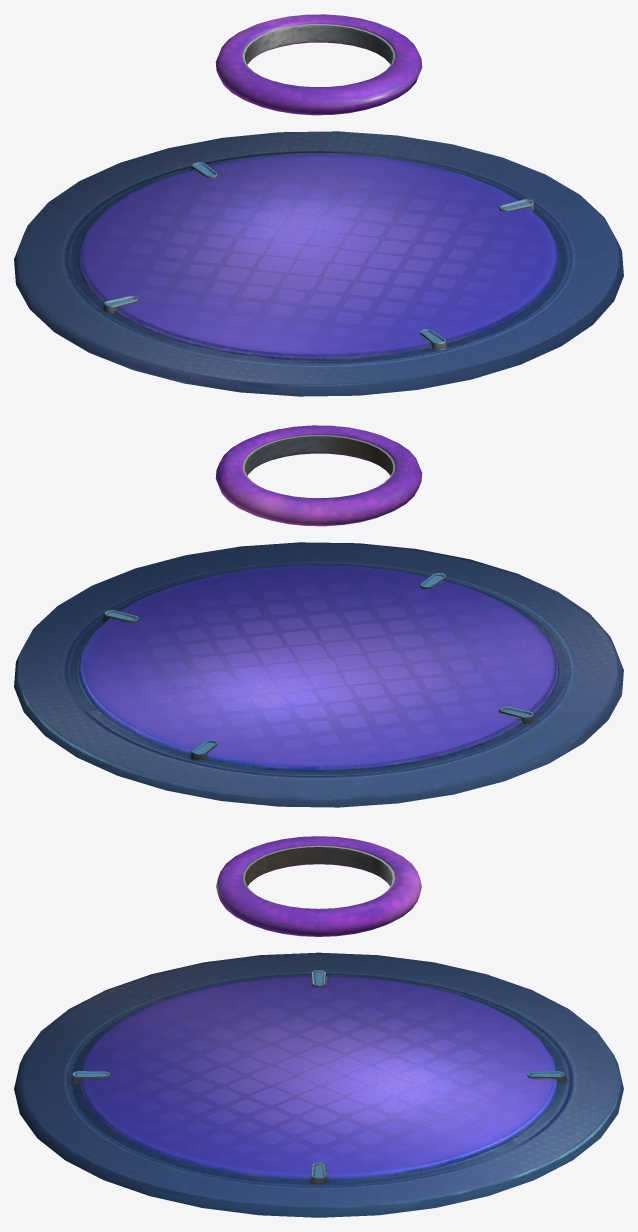
File: pref_TPC_v2_WSJ_NeutralScoreArea03_purple_idle_lv1.fbx
3 renders of one model, top to bottom at view 1: azimuth 30°, elevation 25°; view 2: azimuth 150°, elevation 25°; view 3: azimuth 270°, elevation 25°, orthographic.
Parts seen in each view (by area): view 1: sm_prop_platform06a_lv1, sm_prop_platform06b_lv1; view 2: sm_prop_platform06a_lv1, sm_prop_platform06b_lv1; view 3: sm_prop_platform06a_lv1, sm_prop_platform06b_lv1.
Part boxes in pixels (x1=…): sm_prop_platform06a_lv1: x1=14, y1=131, x2=623, y2=396; sm_prop_platform06b_lv1: x1=215, y1=14, x2=422, y2=115; sm_prop_platform06a_lv1: x1=14, y1=542, x2=623, y2=807; sm_prop_platform06b_lv1: x1=215, y1=425, x2=422, y2=526; sm_prop_platform06a_lv1: x1=14, y1=952, x2=623, y2=1217; sm_prop_platform06b_lv1: x1=216, y1=836, x2=421, y2=936.
Size of the model in its own units: 7.46 by 2.88 by 7.46.
